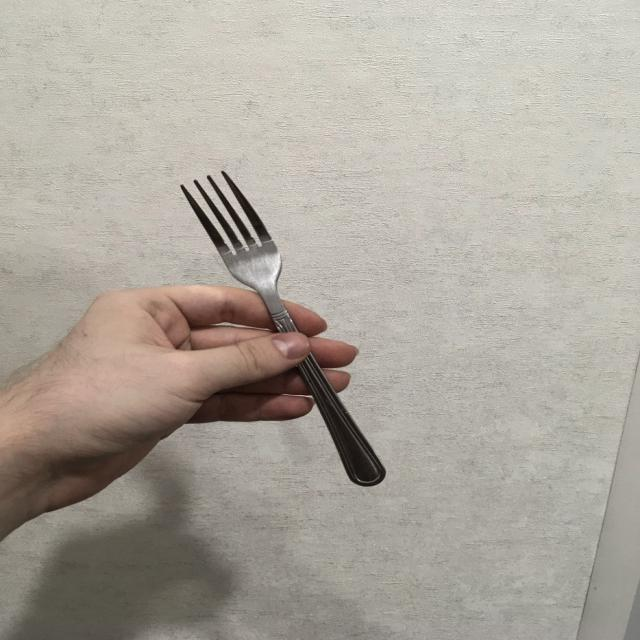fork: (176, 170, 386, 488)
